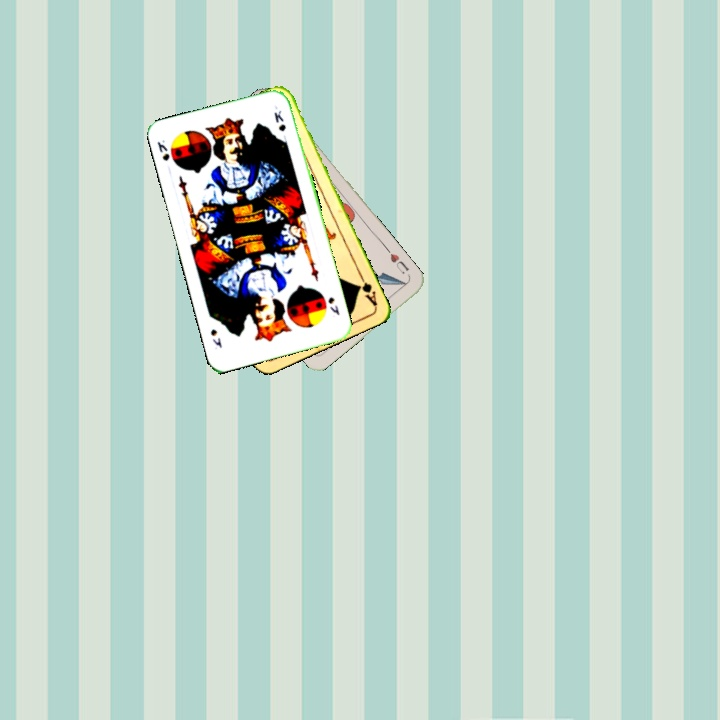GA: (354, 270, 380, 308)
HU: (383, 246, 411, 276)
SK: (153, 136, 172, 163), (324, 293, 342, 318)
